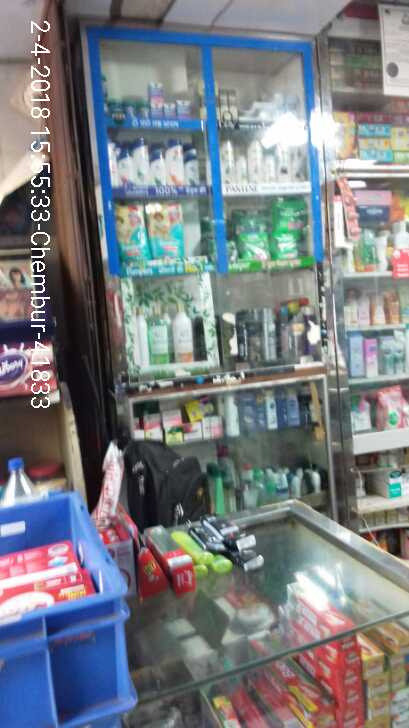vicks: (109, 84, 195, 121)
